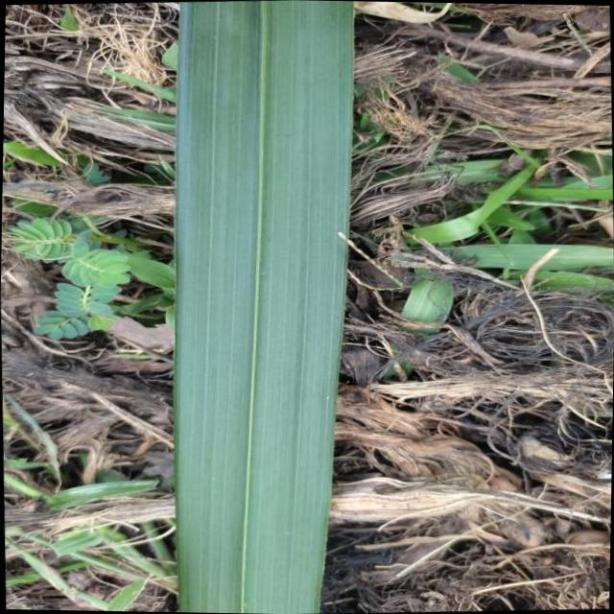Healthy: (174, 0, 357, 614)
